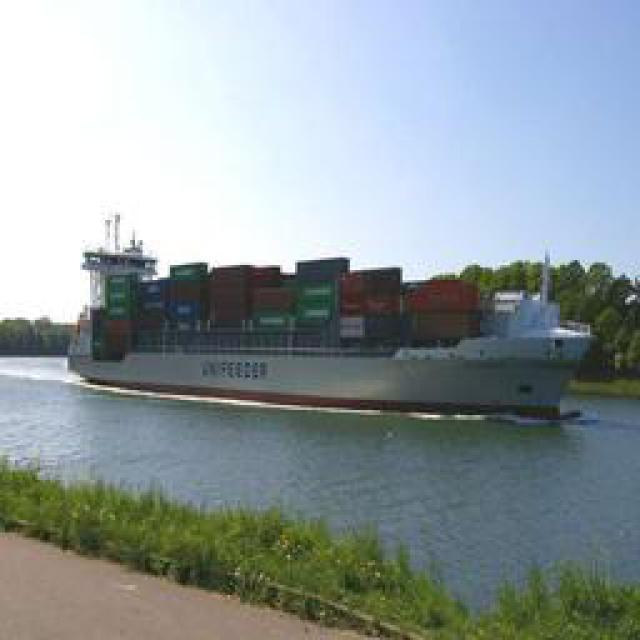Ship: (70, 206, 603, 421)
